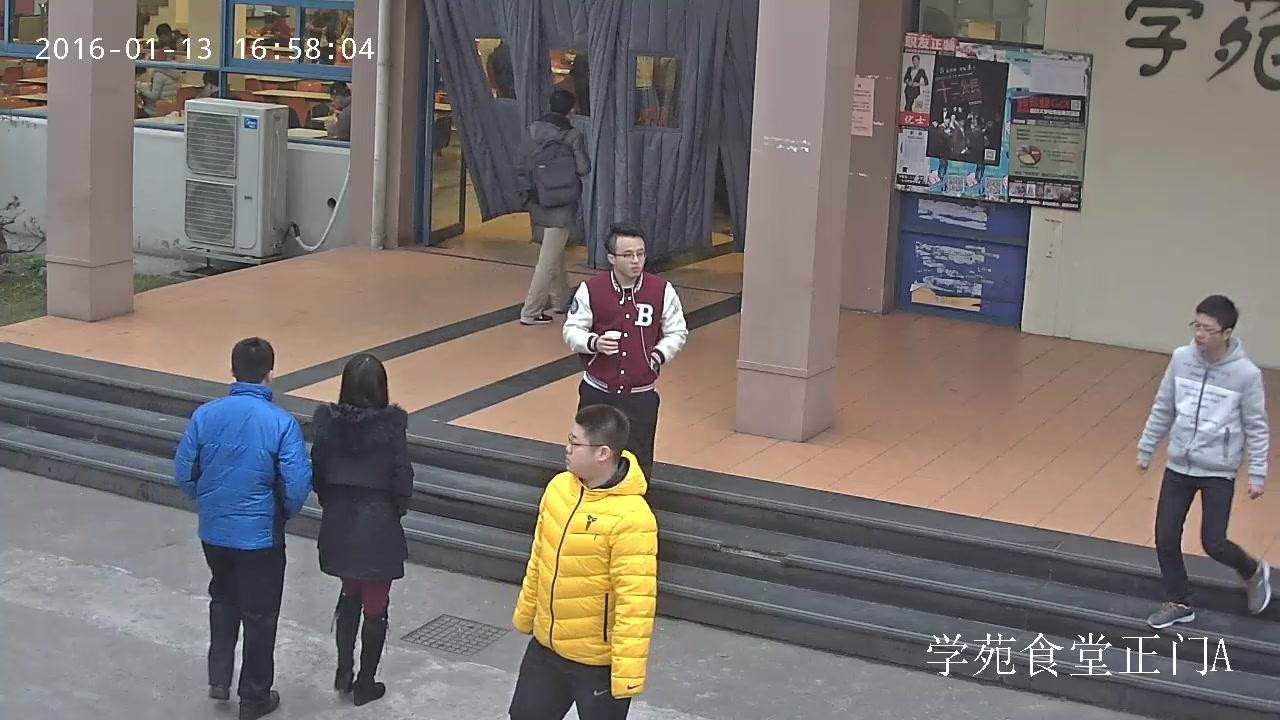person: (172, 336, 309, 720), (506, 404, 656, 720), (1135, 294, 1272, 630), (309, 352, 414, 704), (561, 224, 689, 511), (517, 88, 590, 325), (137, 65, 179, 116), (327, 81, 352, 139), (903, 54, 927, 112), (151, 23, 185, 51)
